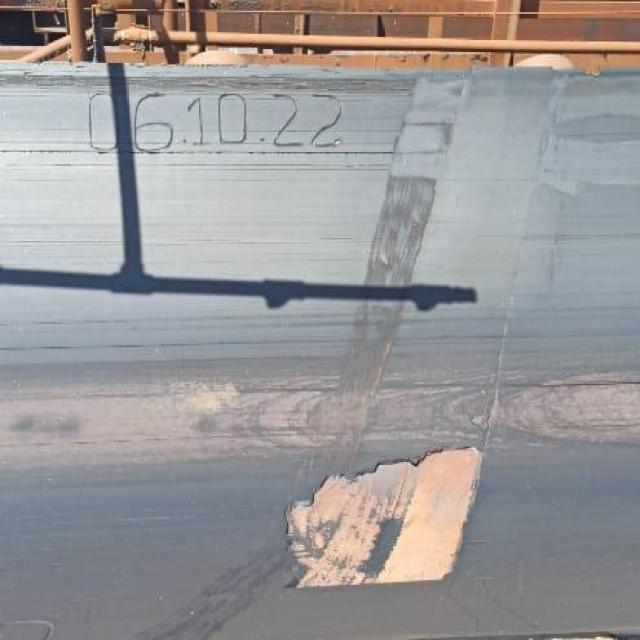Tear: (268, 434, 496, 600)
